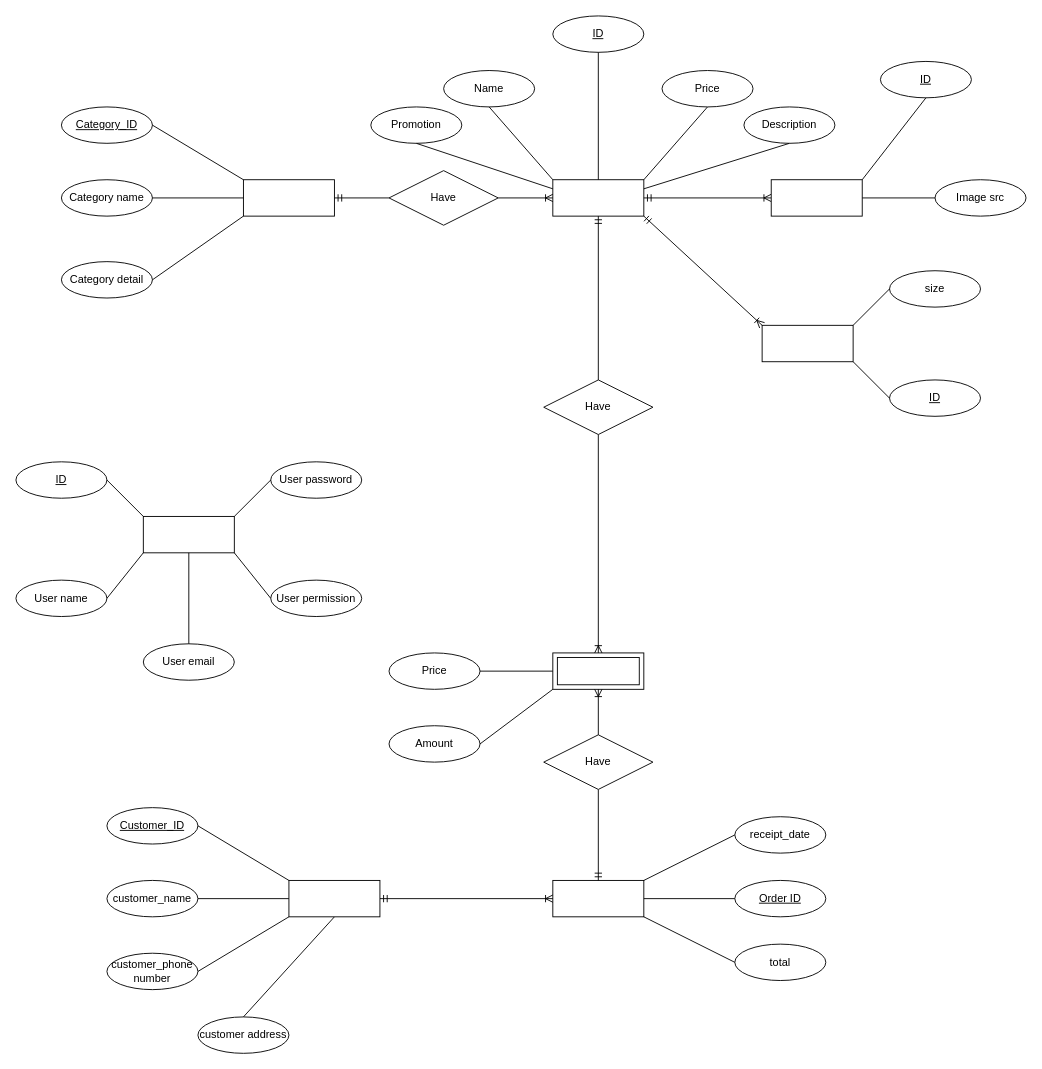
Some shapes in this 1042 by 1069 pixel diagram are drawn without their labels. Each missing label, with the box of its shape:
Category: (243, 179, 334, 216)
Customer: (288, 880, 380, 917)
Order: (552, 880, 644, 917)
Order detail: (552, 652, 644, 689)
Product: (552, 179, 644, 216)
Product image: (770, 179, 862, 216)
Product size: (761, 324, 853, 362)
User: (142, 516, 234, 553)
